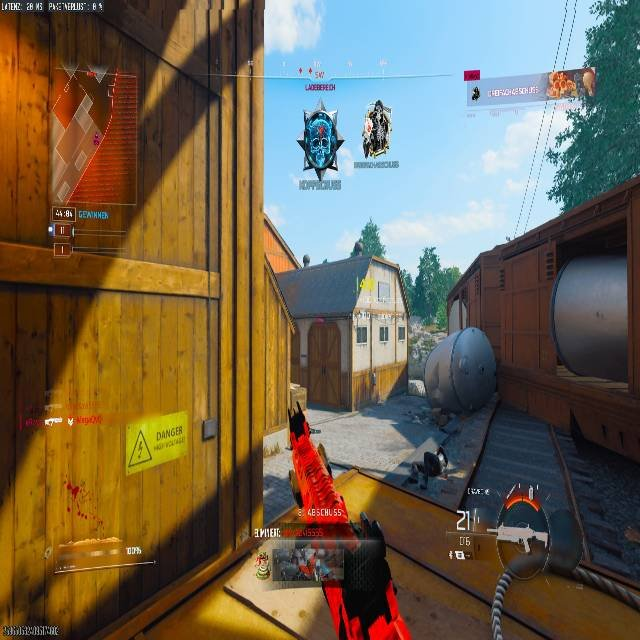player: (485, 494, 550, 639), (297, 105, 343, 181), (361, 99, 392, 157)
